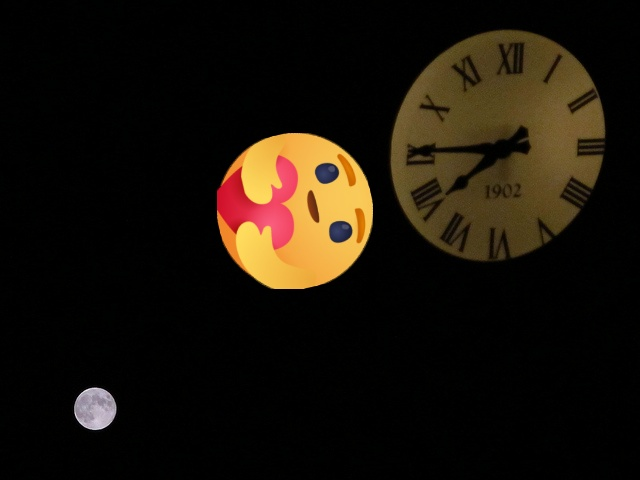care: (217, 133, 373, 289)
